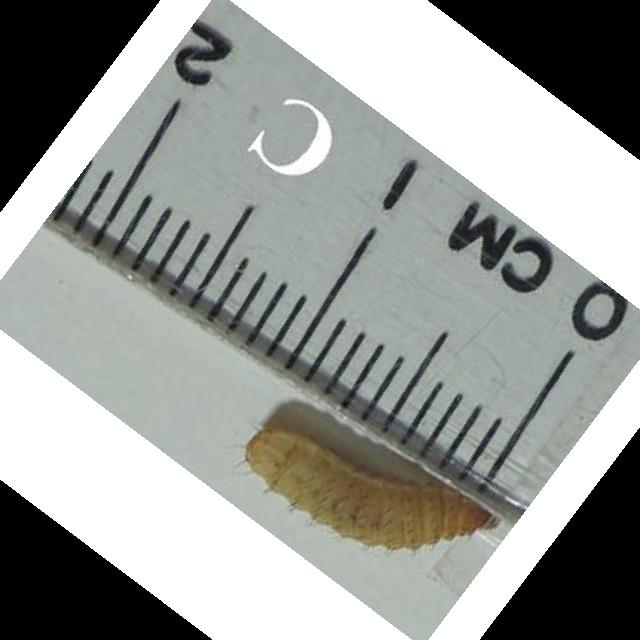Maggot: (244, 425, 501, 548)
